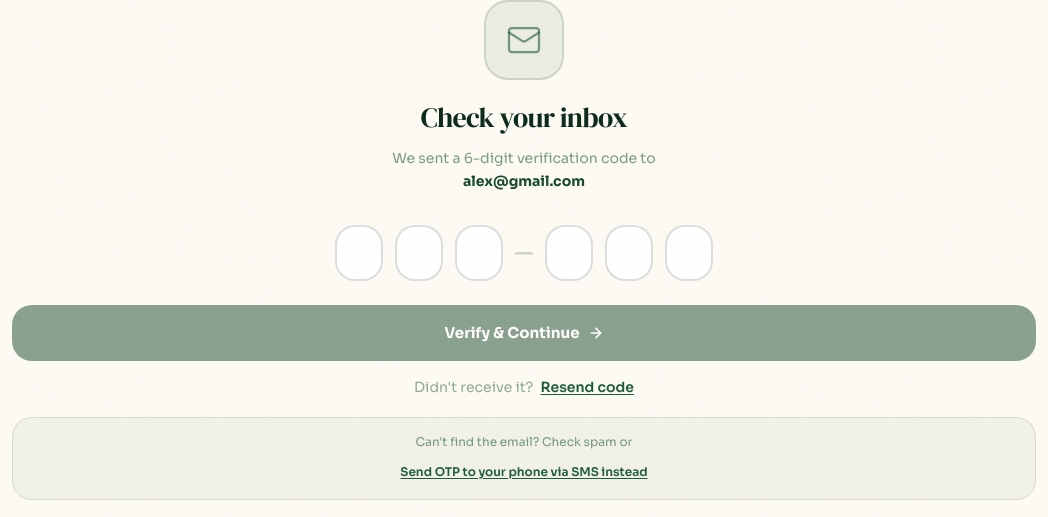
Test: Step3Verify › Edge Cases › handles rapid digit entry — takes last digit via slice(-1)
This screenshot has width=1048, height=517.
# Component strips non-digits then takes last char: "123" → "3"
Type "123" into the 1st field titled "code".
click(359, 252); type("123")  # box [335,224,383,280]
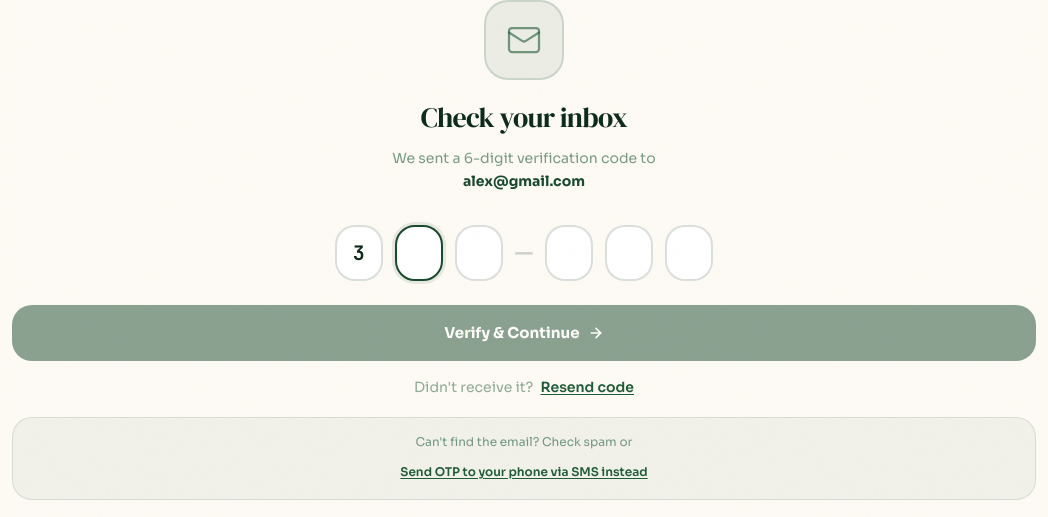
Now the 1st field titled "code" holds "3", box [335,224,383,280]
